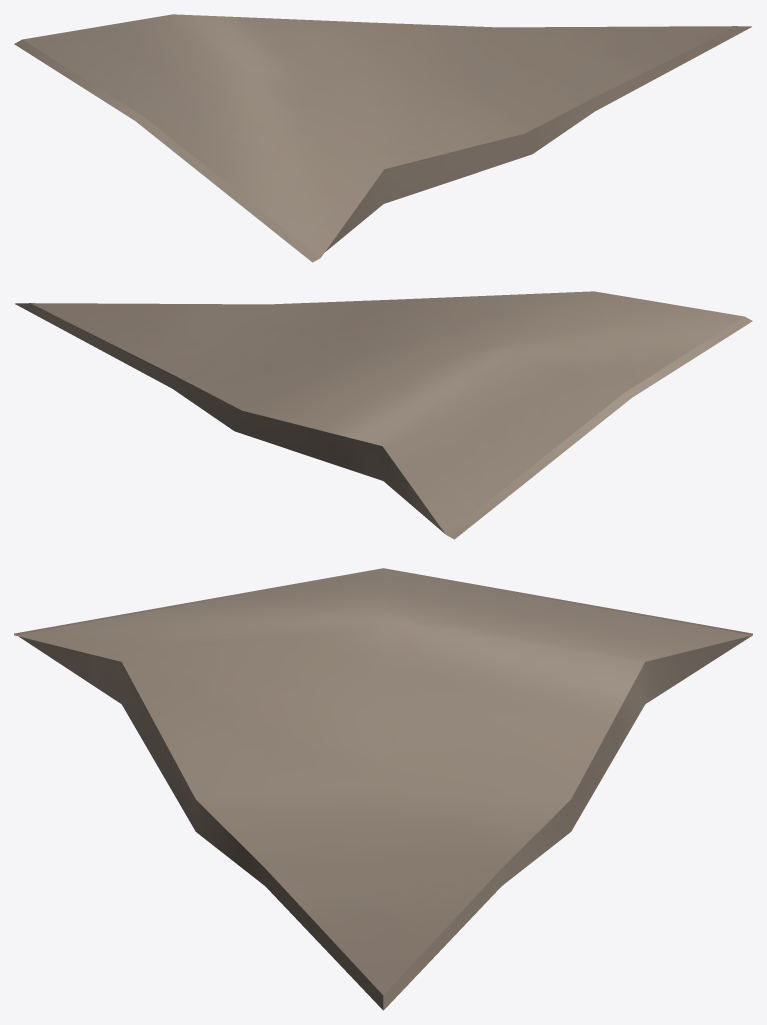
File: Bowl Shard 2.fbx
3 renders of one model, top to bottom at view 1: azimuth 30°, elevation 25°; view 2: azimuth 150°, elevation 25°; view 3: azimuth 270°, elevation 25°, orthographic. The views are drawn at different scales.
Visible parts, largest first — view 1: pCube2; view 2: pCube2; view 3: pCube2.
Boxes of the visible parts, x1,y1,x2,y2 form: pCube2: (14, 14, 751, 262); pCube2: (15, 291, 752, 539); pCube2: (14, 568, 752, 1010).
Bounding box in the file's own units: 4.65 × 0.5262 × 3.9.
Materials: 1 (1 with a texture image).
